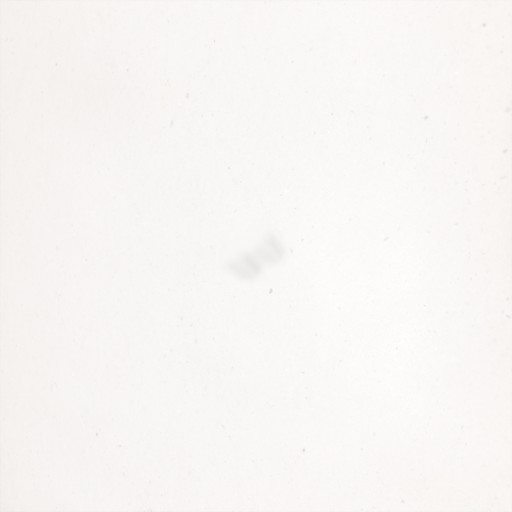lego: (216, 222, 289, 283)
